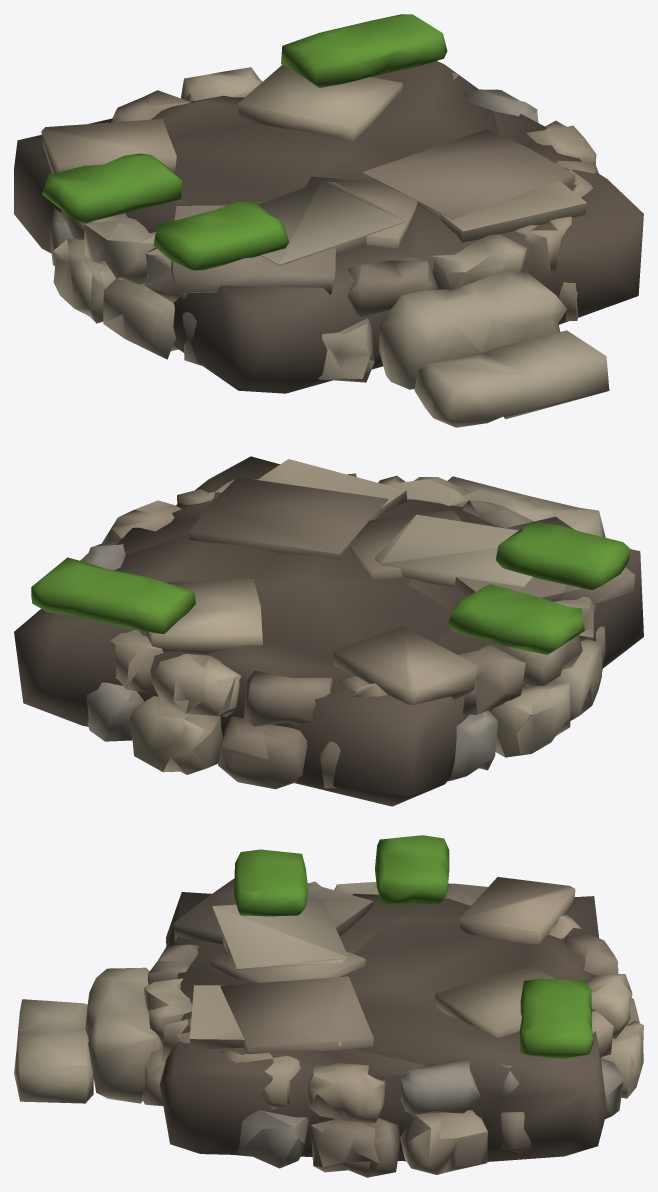
The model's file is glade_portal_plinth_c_lod1.glb.
The picture shows the model from 3 angles, top to bottom: view 1: azimuth 30°, elevation 25°; view 2: azimuth 150°, elevation 25°; view 3: azimuth 270°, elevation 25°; orthographic projection. The views are drawn at different scales.
Parts seen in each view (by area): view 1: glade_portal_plinth_c.001; view 2: glade_portal_plinth_c.001; view 3: glade_portal_plinth_c.001.
Part boxes in pixels (<box>): glade_portal_plinth_c.001: <box>14,14,643,427</box>; glade_portal_plinth_c.001: <box>14,456,643,806</box>; glade_portal_plinth_c.001: <box>14,835,643,1177</box>.
Bounding box in the file's own units: 7.45 × 2.02 × 8.73.
